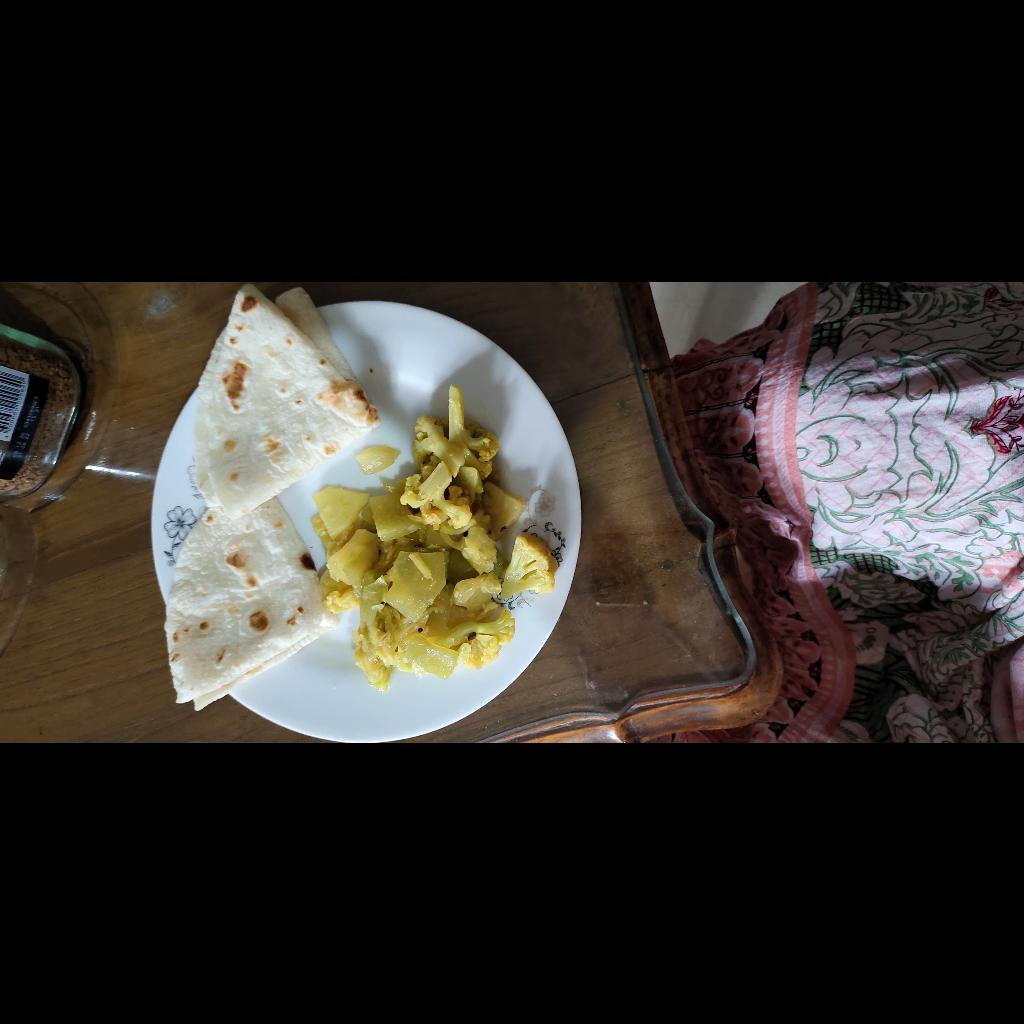ruti: (34, 446, 461, 661)
vegetable: (52, 595, 356, 837)
